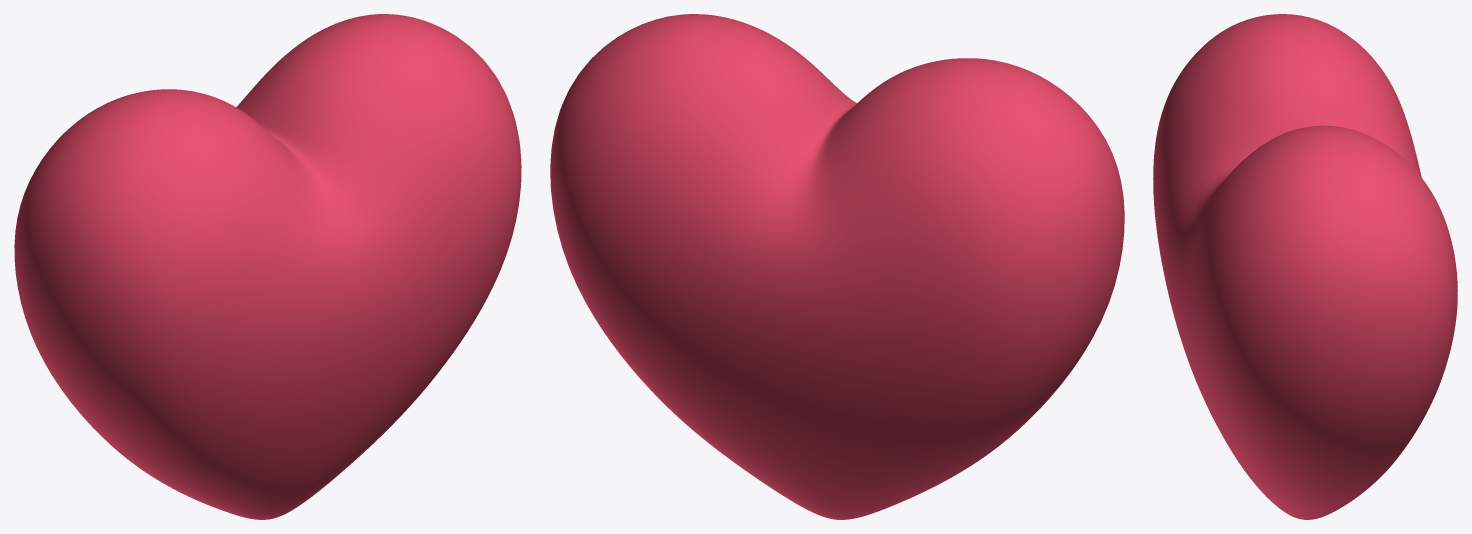
Rendered from profile-picture-3d-animated-icon-886283542238.glb.
The picture shows the model from 3 angles, left to right: view 1: azimuth 30°, elevation 25°; view 2: azimuth 150°, elevation 25°; view 3: azimuth 270°, elevation 25°; orthographic projection. The views are drawn at different scales.
Visible parts, largest first — view 1: heart; view 2: heart; view 3: heart.
Boxes of the visible parts, box(x1,y1,x2,y2) form: heart: box(14, 14, 521, 519); heart: box(550, 14, 1124, 519); heart: box(1153, 14, 1457, 519).
Size of what is drawn, in the model's own units: 2.45 by 2.15 by 1.37.
